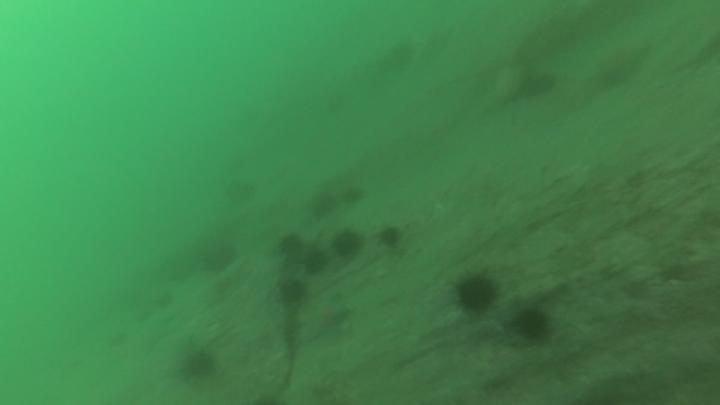echinus: (454, 269, 500, 316), (511, 303, 552, 344), (381, 39, 420, 76), (519, 68, 558, 101), (185, 349, 220, 381), (331, 228, 364, 261), (225, 175, 257, 209), (204, 243, 238, 275), (313, 192, 344, 221), (303, 247, 332, 278), (277, 232, 306, 263), (278, 277, 309, 306), (374, 224, 405, 250), (341, 184, 366, 206)
starfish: (587, 44, 652, 95), (298, 297, 354, 347)
